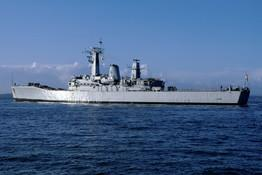warship: (9, 42, 250, 104)
